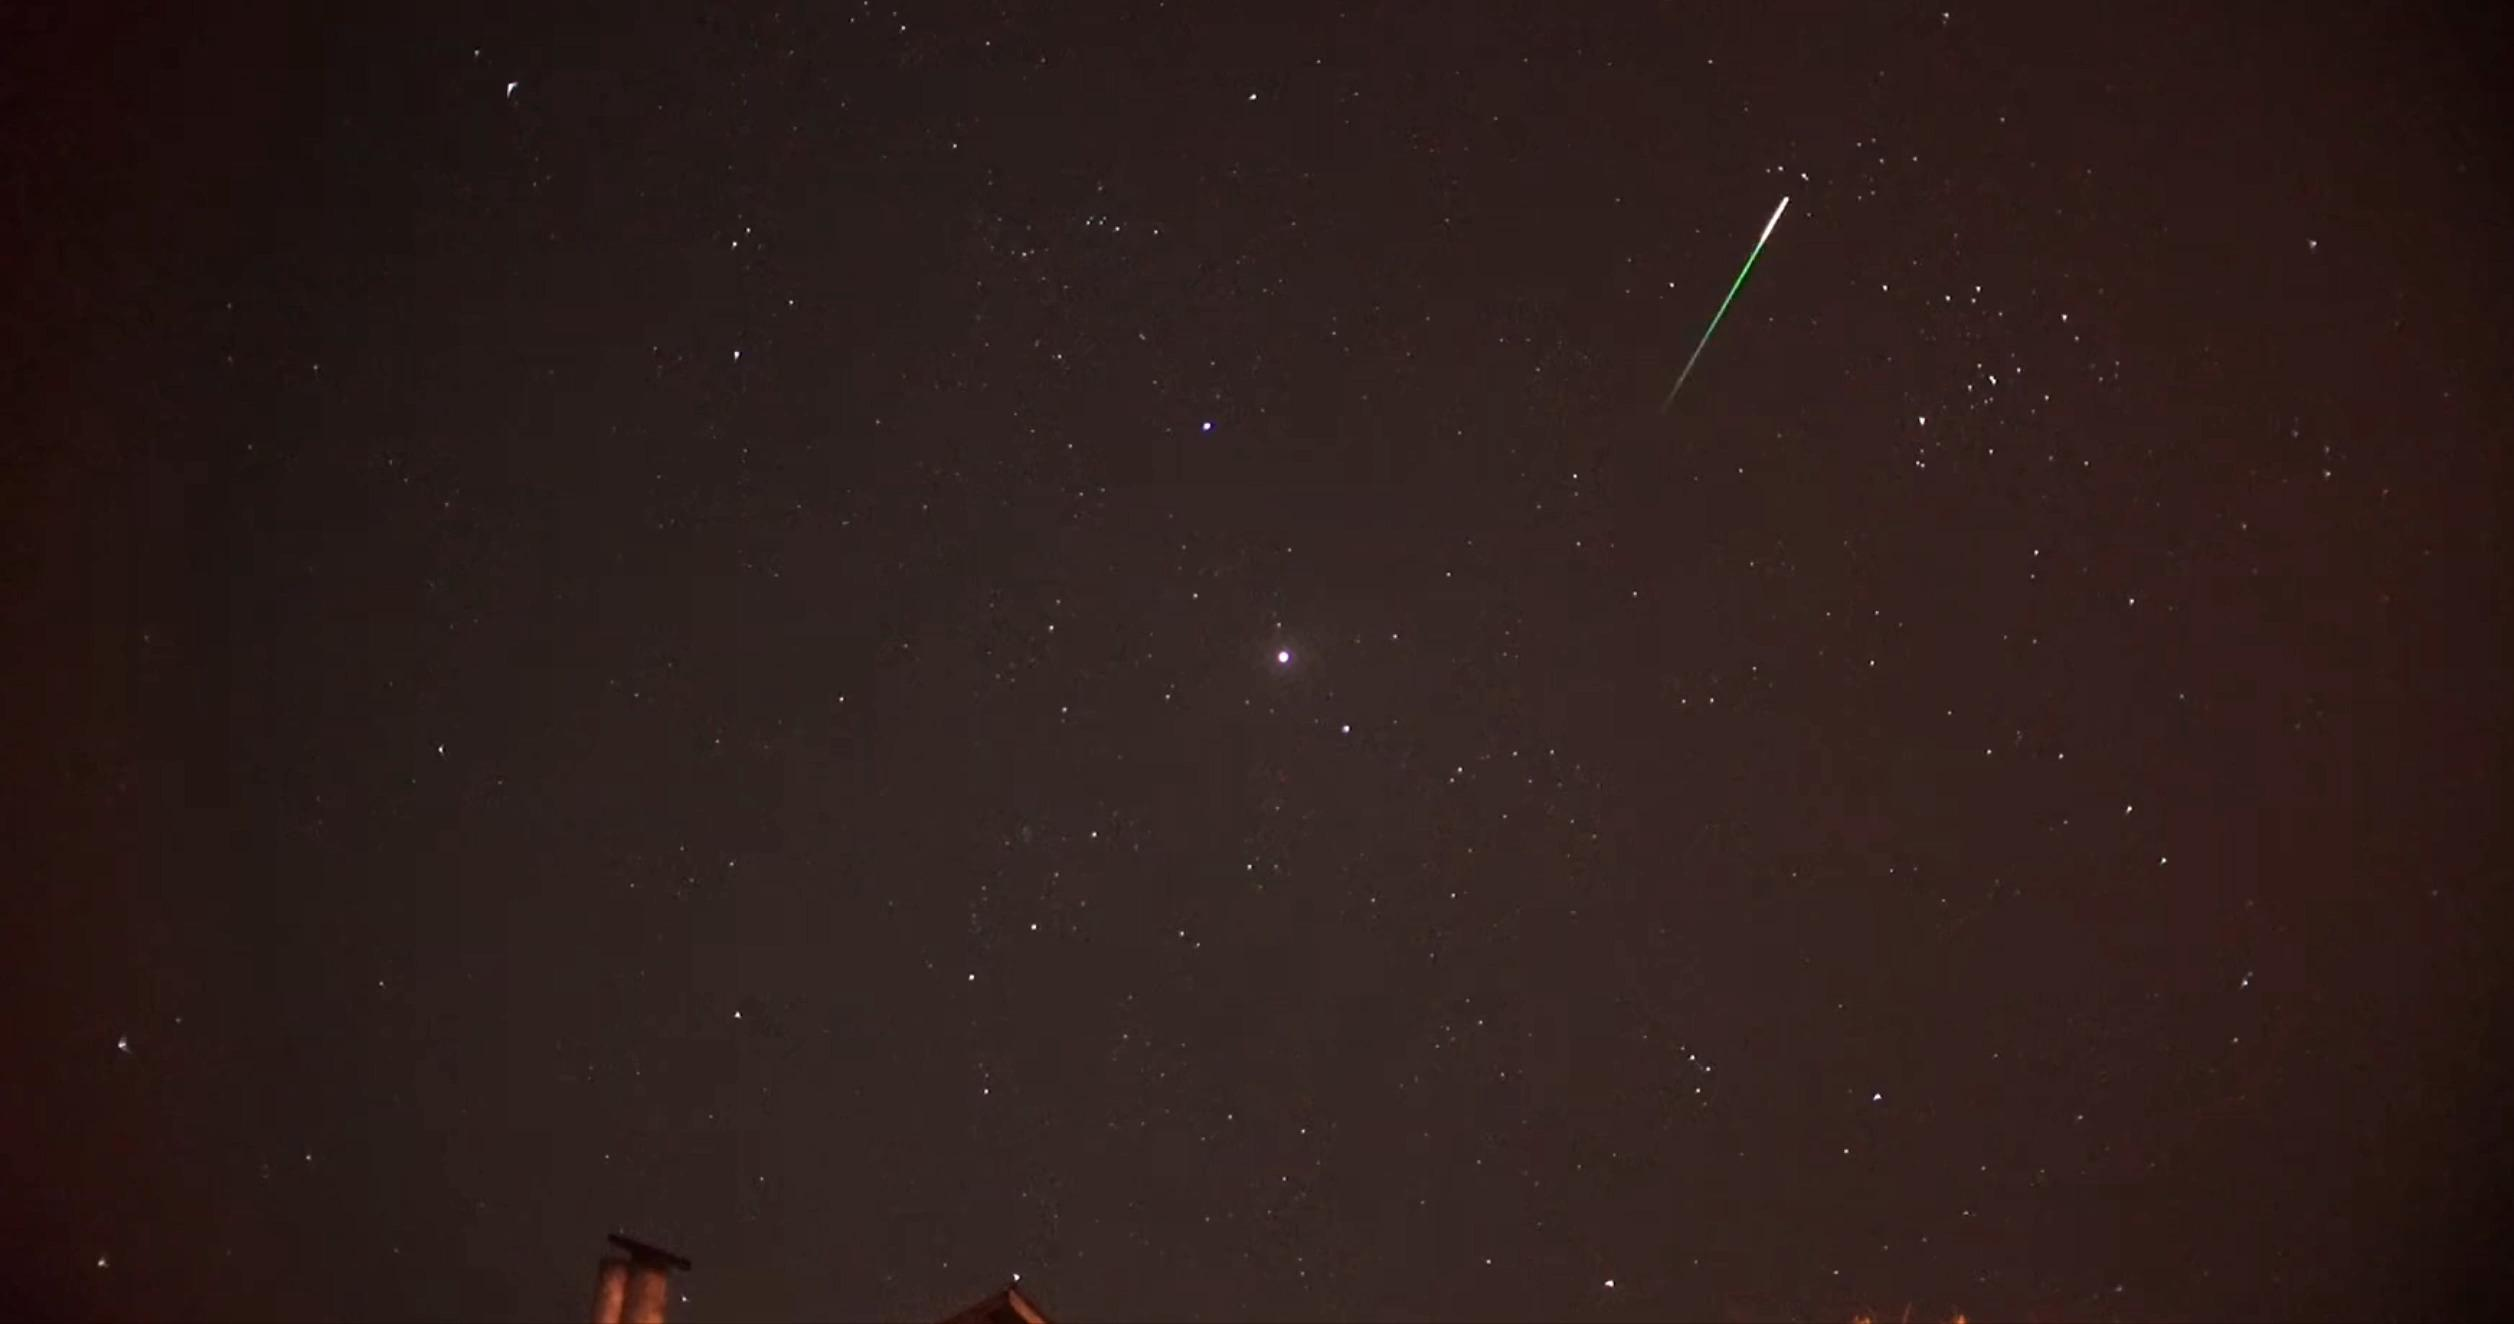meteorite: (1619, 165, 1862, 414)
